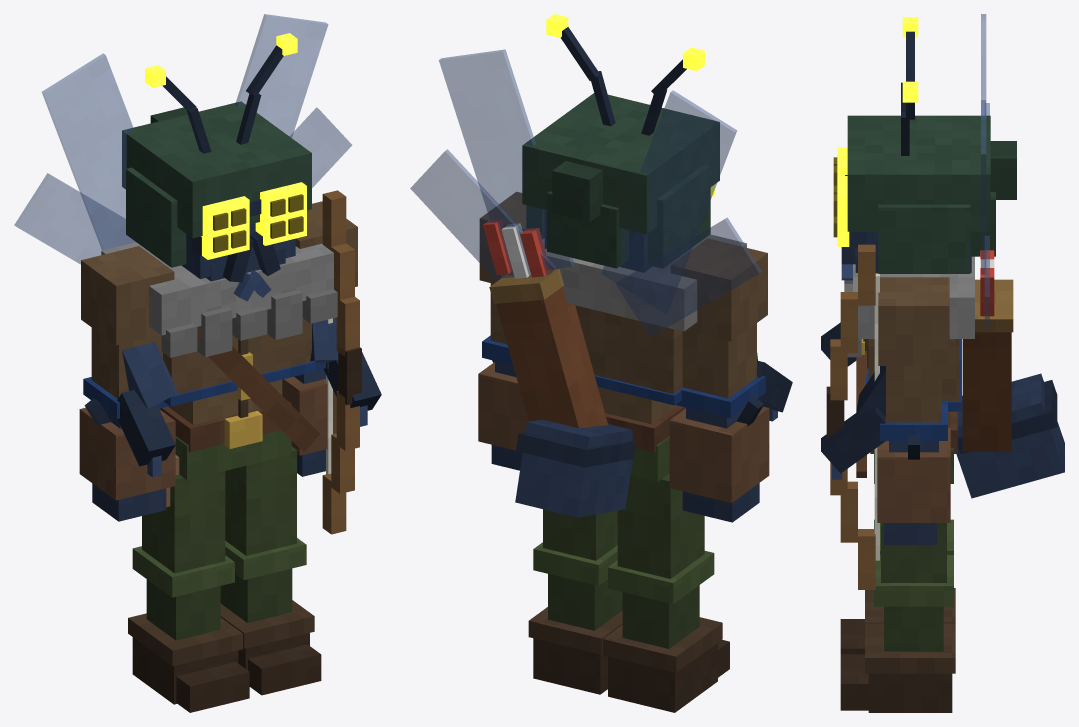
Rendered from insectoid_chasseur_v3.glb.
3 renders of one model, left to right at view 1: azimuth 30°, elevation 25°; view 2: azimuth 150°, elevation 25°; view 3: azimuth 270°, elevation 25°, orthographic. The views are drawn at different scales.
Visible parts, largest first — view 1: Torso, Head, LegR, LegL, ArmR, HandL, ArmL; view 2: Torso, Head, ArmR, LegR, LegL, ArmL; view 3: Torso, Head, ArmL, LegL, HandL, LegR.
Part boxes in pixels (x1,y1,x2,y2): Torso: [14, 14, 381, 507]; Head: [122, 33, 311, 301]; LegR: [128, 471, 249, 712]; LegL: [220, 446, 321, 695]; ArmR: [79, 246, 175, 521]; HandL: [322, 190, 361, 534]; ArmL: [282, 201, 357, 476]; Torso: [410, 49, 792, 517]; Head: [522, 14, 719, 272]; ArmR: [669, 238, 769, 522]; LegR: [603, 473, 729, 712]; LegL: [528, 509, 622, 694]; ArmL: [478, 192, 544, 470]; Torso: [821, 14, 1064, 498]; Head: [833, 17, 1016, 280]; ArmL: [877, 277, 950, 545]; LegL: [840, 523, 955, 712]; HandL: [826, 244, 879, 589]; LegR: [840, 519, 955, 654].
Bounding box in the file's own units: 1.12 × 1.98 × 0.699.
41 materials, 41 textured.
